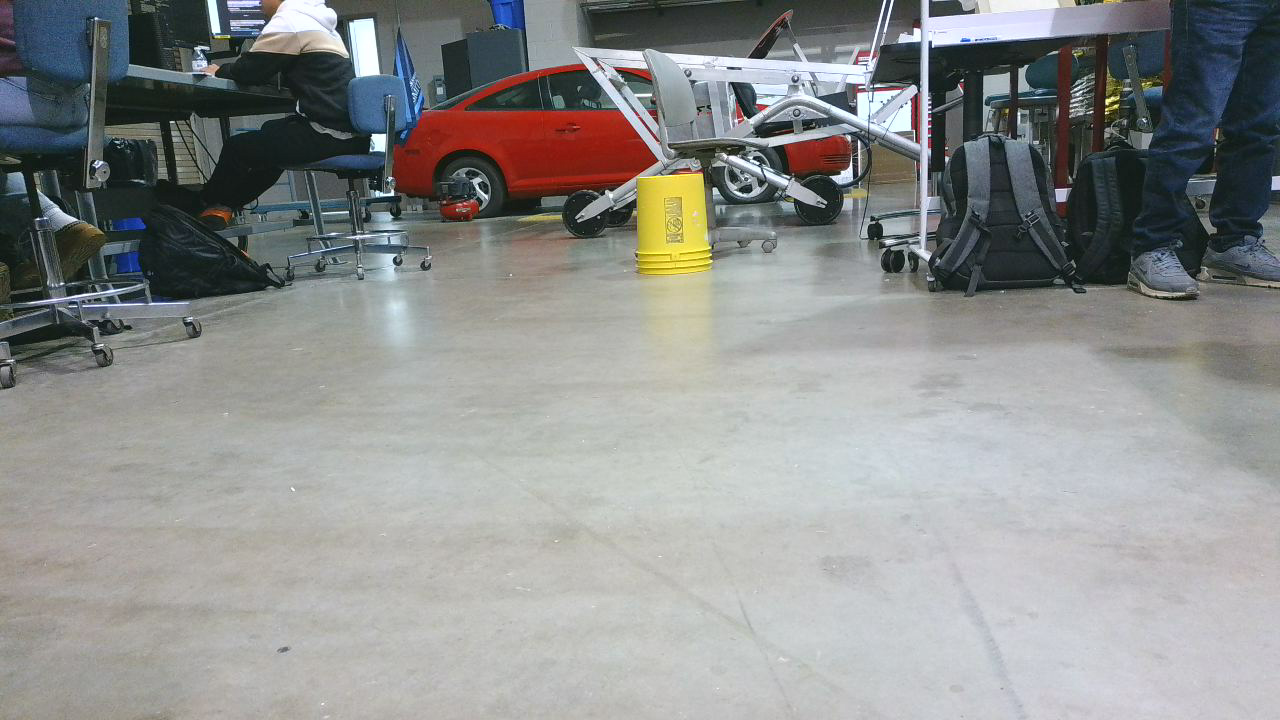yellow_bucket: (640, 178, 725, 282)
